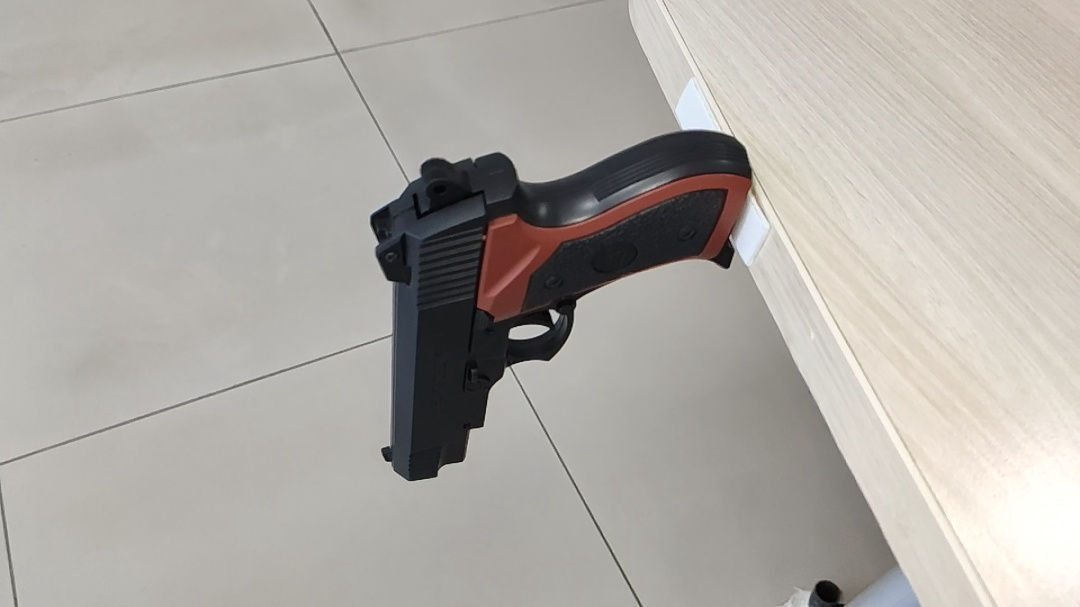gun: (372, 125, 758, 486)
